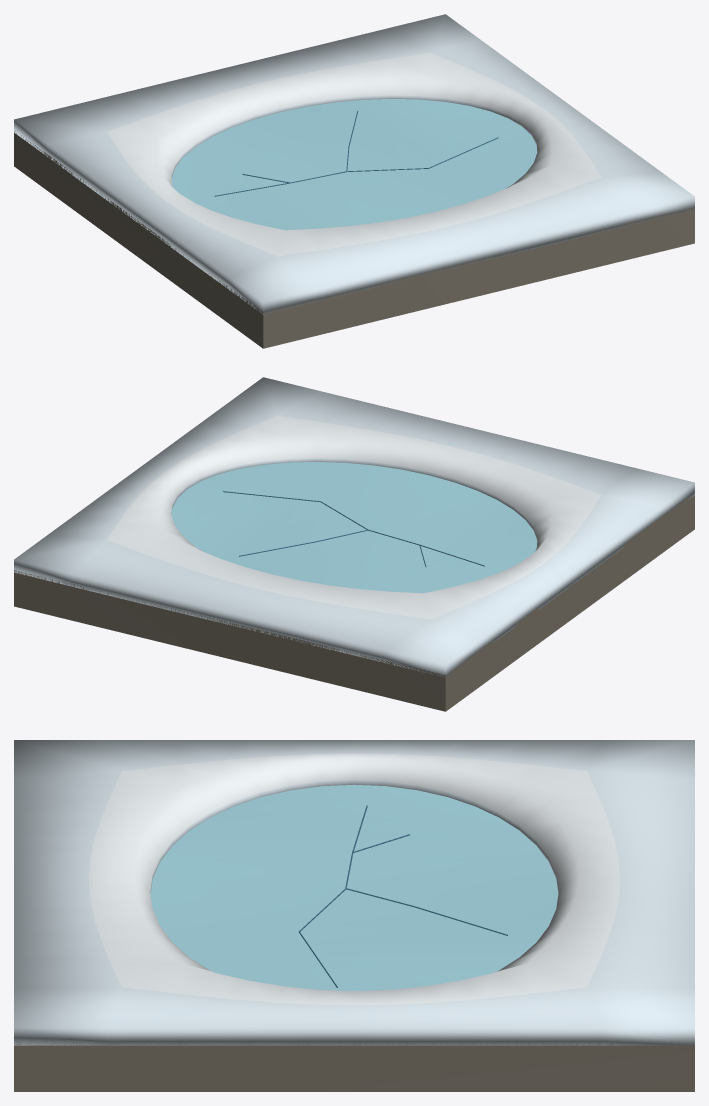
File: Environment_Snow_FrozenPond8m_001.glb
The picture shows the model from 3 angles, top to bottom: view 1: azimuth 30°, elevation 25°; view 2: azimuth 150°, elevation 25°; view 3: azimuth 270°, elevation 25°; orthographic projection. The views are drawn at different scales.
Visible parts, largest first — view 1: SN_FrozenPond8m_Body; view 2: SN_FrozenPond8m_Body; view 3: SN_FrozenPond8m_Body.
Boxes of the visible parts, x1,y1,x2,y2 form: SN_FrozenPond8m_Body: [14, 14, 694, 348]; SN_FrozenPond8m_Body: [14, 377, 694, 711]; SN_FrozenPond8m_Body: [14, 740, 694, 1091].
Bounding box in the file's own units: 8 × 0.95 × 8.
